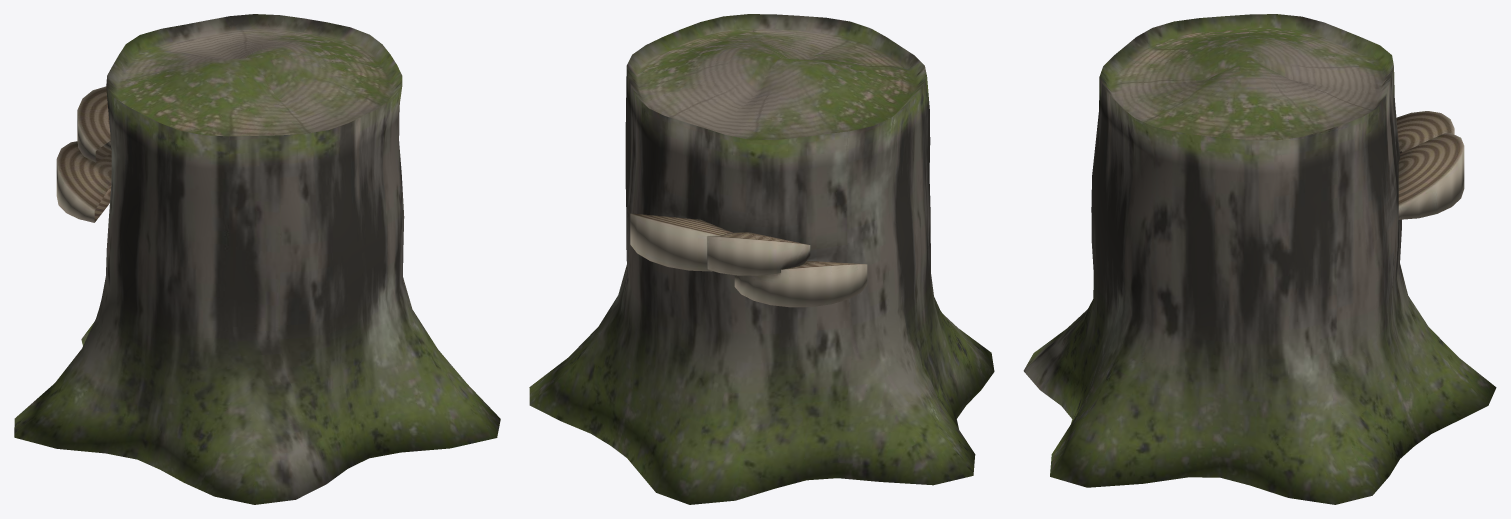
The model's file is parez_3.glb.
3 renders of one model, left to right at view 1: azimuth 30°, elevation 25°; view 2: azimuth 150°, elevation 25°; view 3: azimuth 270°, elevation 25°, orthographic.
Parts seen in each view (by area): view 1: parez_3; view 2: parez_3; view 3: parez_3.
Boxes of the visible parts, x1=… form: parez_3: x1=14, y1=14, x2=500, y2=504; parez_3: x1=529, y1=14, x2=994, y2=504; parez_3: x1=1023, y1=14, x2=1496, y2=504.
Size of the model in its own units: 0.7418 by 0.58 by 0.7172.
Materials: 1 (1 with a texture image).
